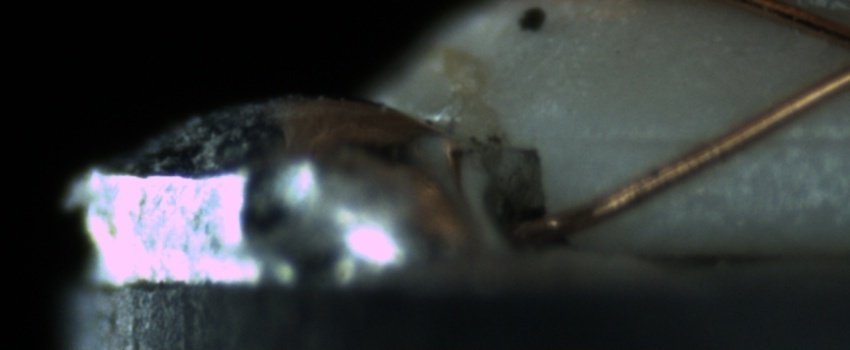DL: (579, 105, 845, 171)
